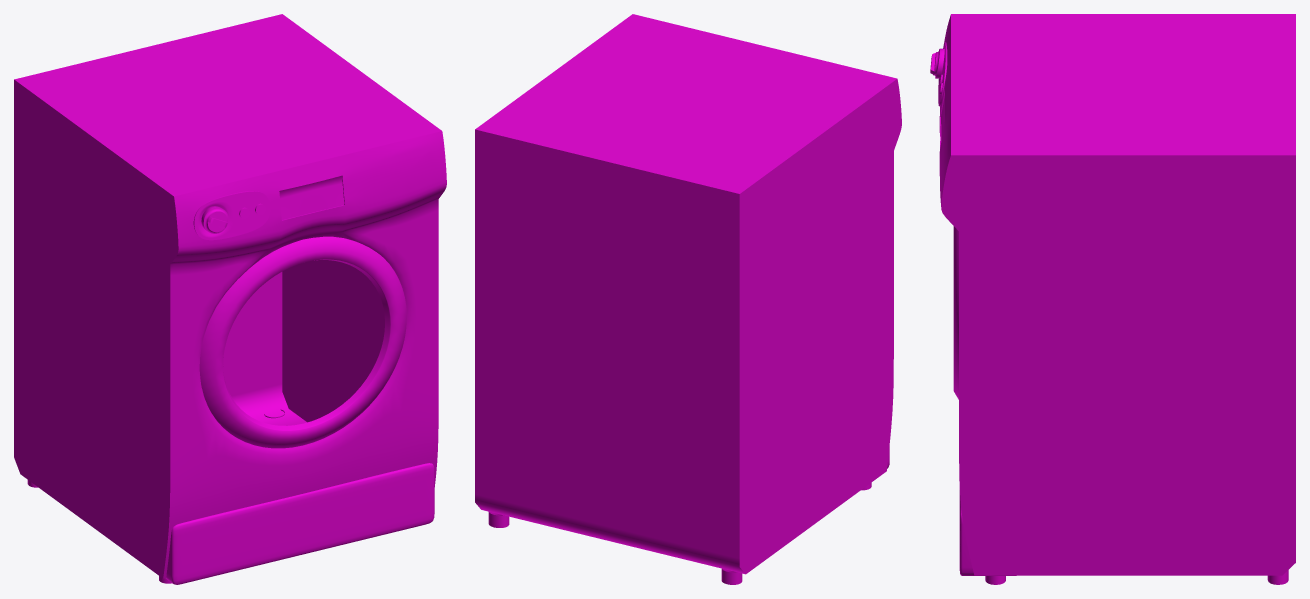
The model's file is Washing.002.fbx.
3 renders of one model, left to right at view 1: azimuth 30°, elevation 25°; view 2: azimuth 150°, elevation 25°; view 3: azimuth 270°, elevation 25°, orthographic. The views are drawn at different scales.
Parts seen in each view (by area): view 1: Washing.002; view 2: Washing.002; view 3: Washing.002.
Boxes of the visible parts, box(x1,y1,x2,y2) form: Washing.002: box(14, 14, 446, 584); Washing.002: box(475, 14, 901, 584); Washing.002: box(930, 14, 1295, 584).
Size of the model in its own units: 359 by 515 by 394.
